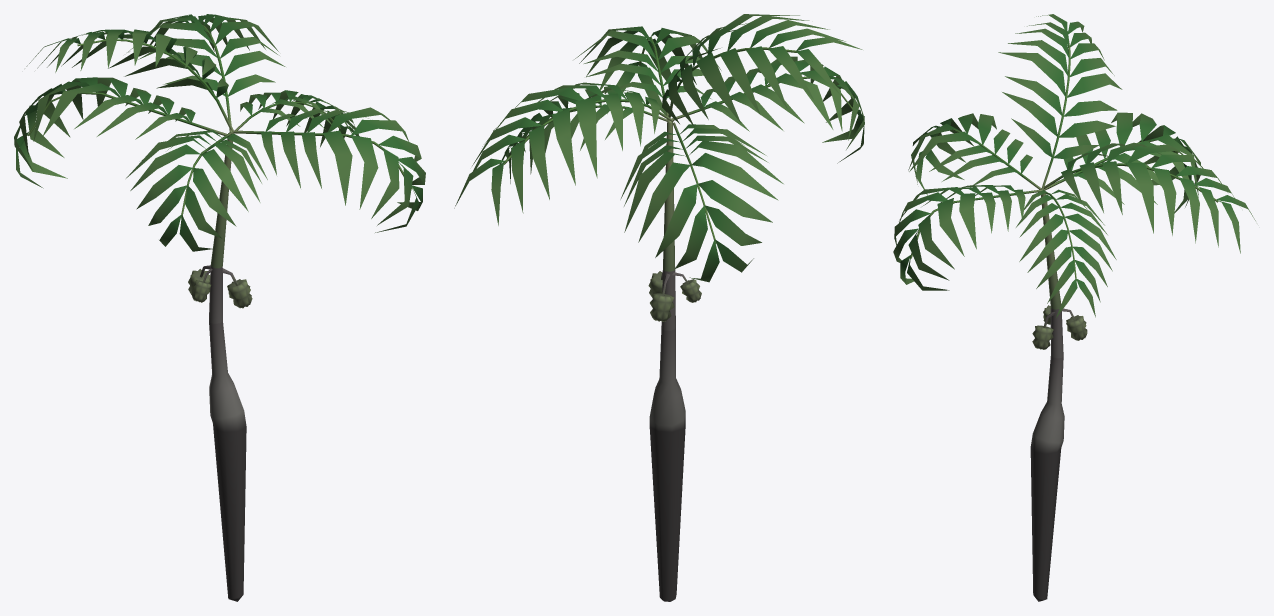
File: trees-palms-ferns-tree-fern_v1.fbx
The picture shows the model from 3 angles, left to right: view 1: azimuth 30°, elevation 25°; view 2: azimuth 150°, elevation 25°; view 3: azimuth 270°, elevation 25°; orthographic projection. The views are drawn at different scales.
Visible parts, largest first — view 1: Tree Fern_v1; view 2: Tree Fern_v1; view 3: Tree Fern_v1.
Boxes of the visible parts, x1,y1,x2,y2 form: Tree Fern_v1: (14, 14, 425, 601); Tree Fern_v1: (454, 14, 864, 601); Tree Fern_v1: (893, 14, 1255, 601).
Bounding box in the file's own units: 2.95 × 5 × 3.2.
